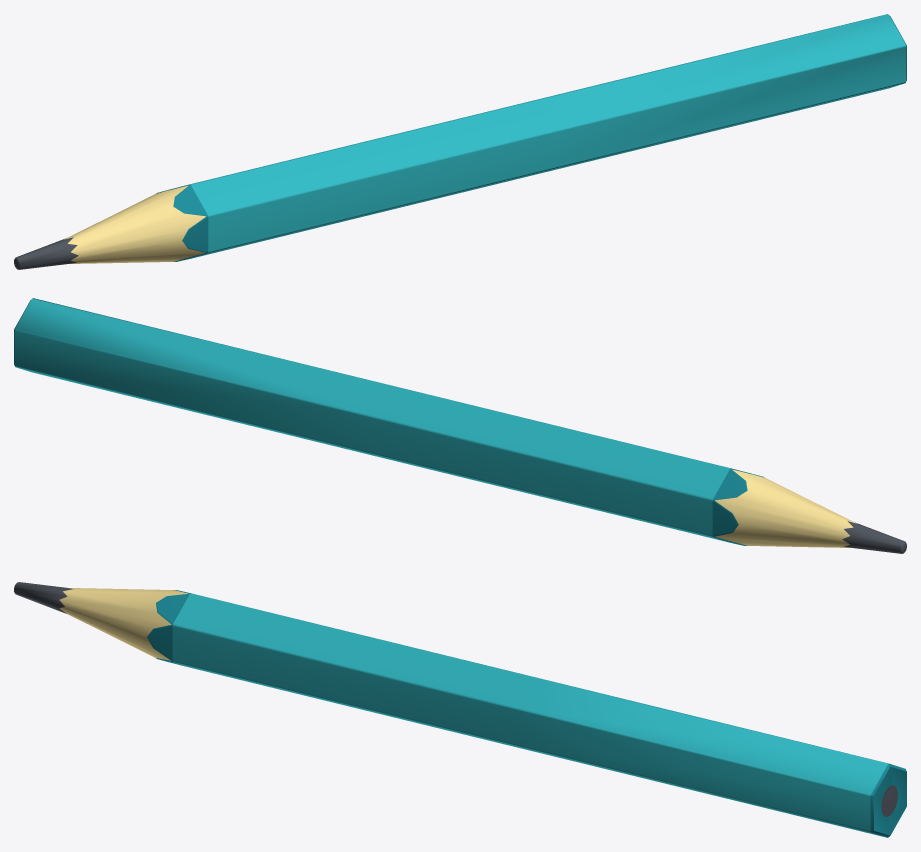
The model's file is lapis_azul_pacote.glb.
3 views of the same model, one above another, from view 1: azimuth 30°, elevation 25°; view 2: azimuth 150°, elevation 25°; view 3: azimuth 330°, elevation 25° (orthographic).
Parts seen in each view (by area): view 1: lapis_azul_pacote; view 2: lapis_azul_pacote; view 3: lapis_azul_pacote.
Part boxes in pixels (x1=…): lapis_azul_pacote: x1=14, y1=14, x2=906, y2=269; lapis_azul_pacote: x1=14, y1=298, x2=906, y2=553; lapis_azul_pacote: x1=14, y1=582, x2=906, y2=837.
Size of the model in its own units: 0.1519 by 0.0122 by 0.0107.
1 material, 1 textured.
